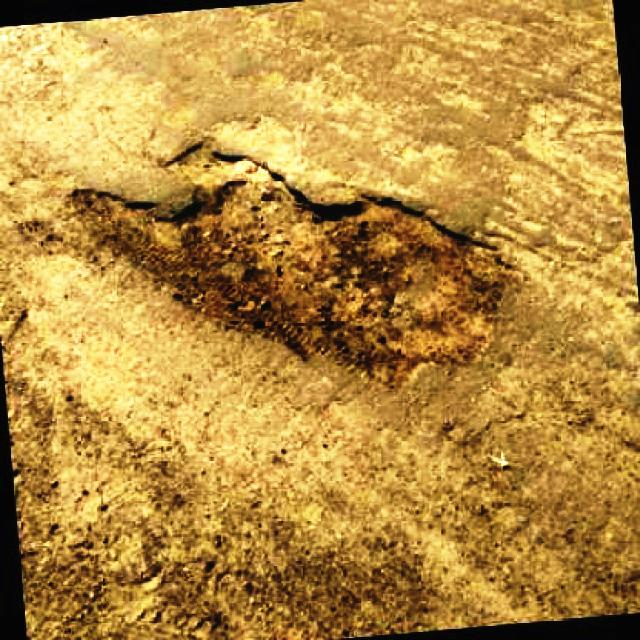pothole: (57, 149, 514, 374)
